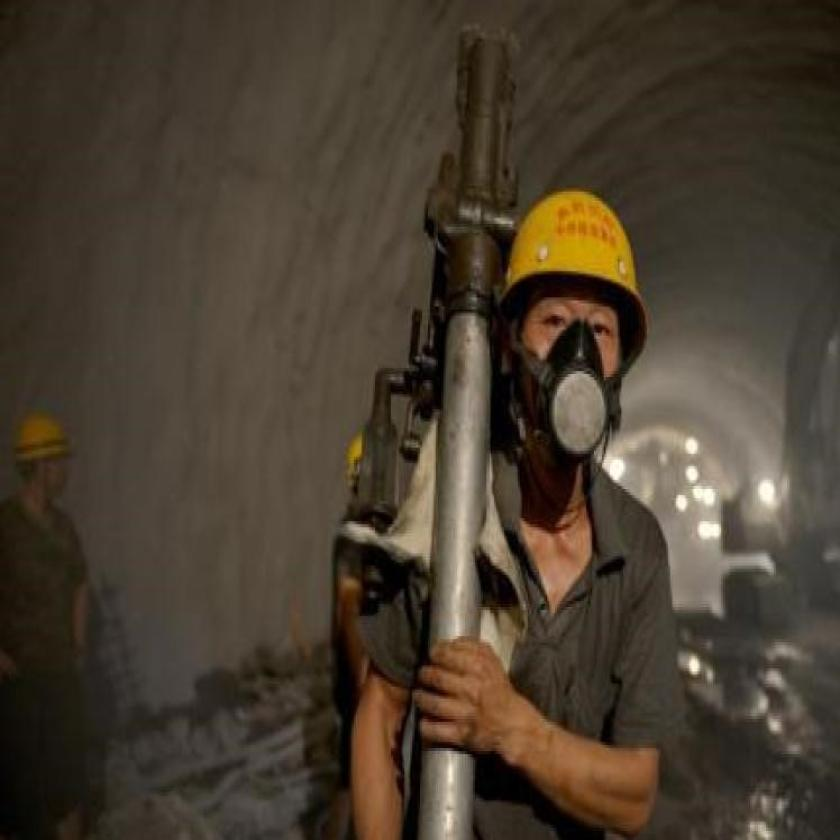Con_casco: (491, 184, 648, 495)
